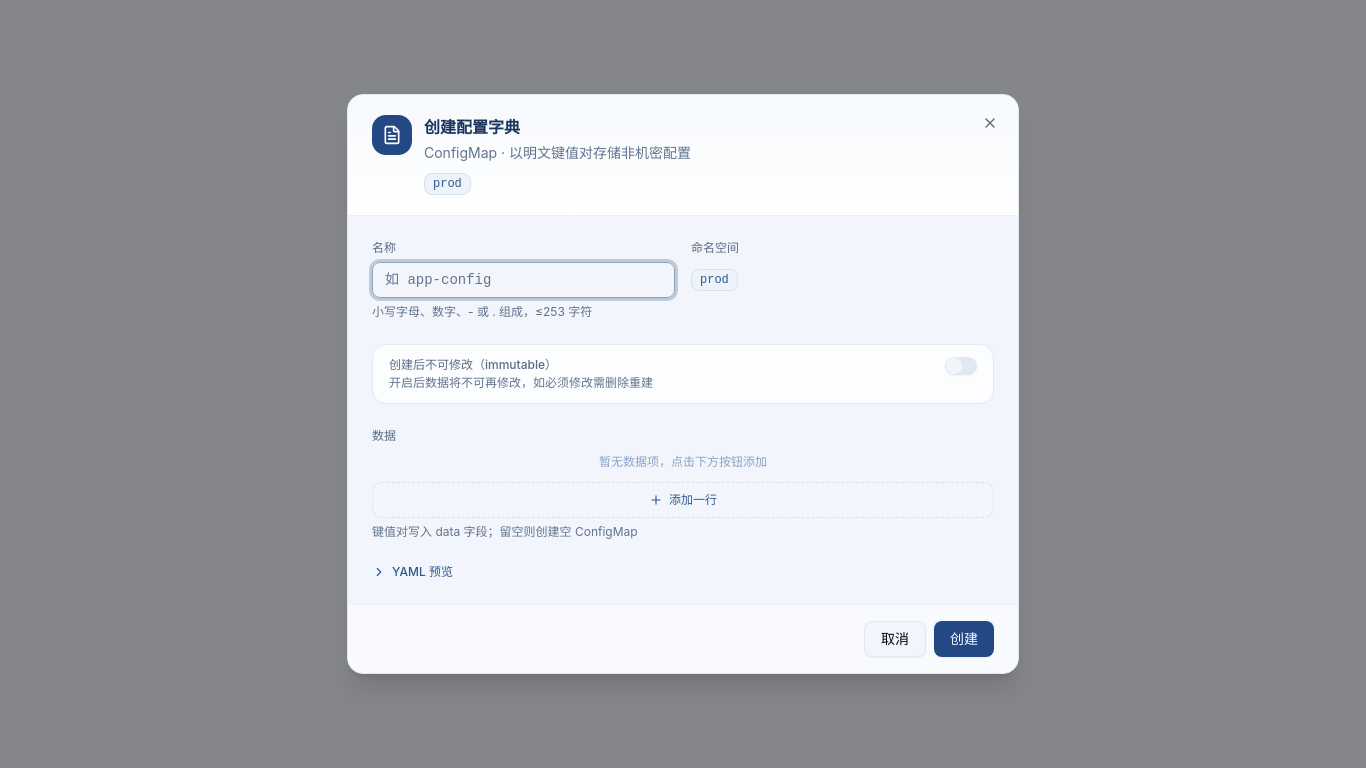
Scenario: CmCreateDialog › shows 同名配置字典已存在 on a 409 from the real create
Type "app-config" into the field named "名称".
click(524, 280); type("app-config")  # box x1=372 y1=262 x2=675 y2=298
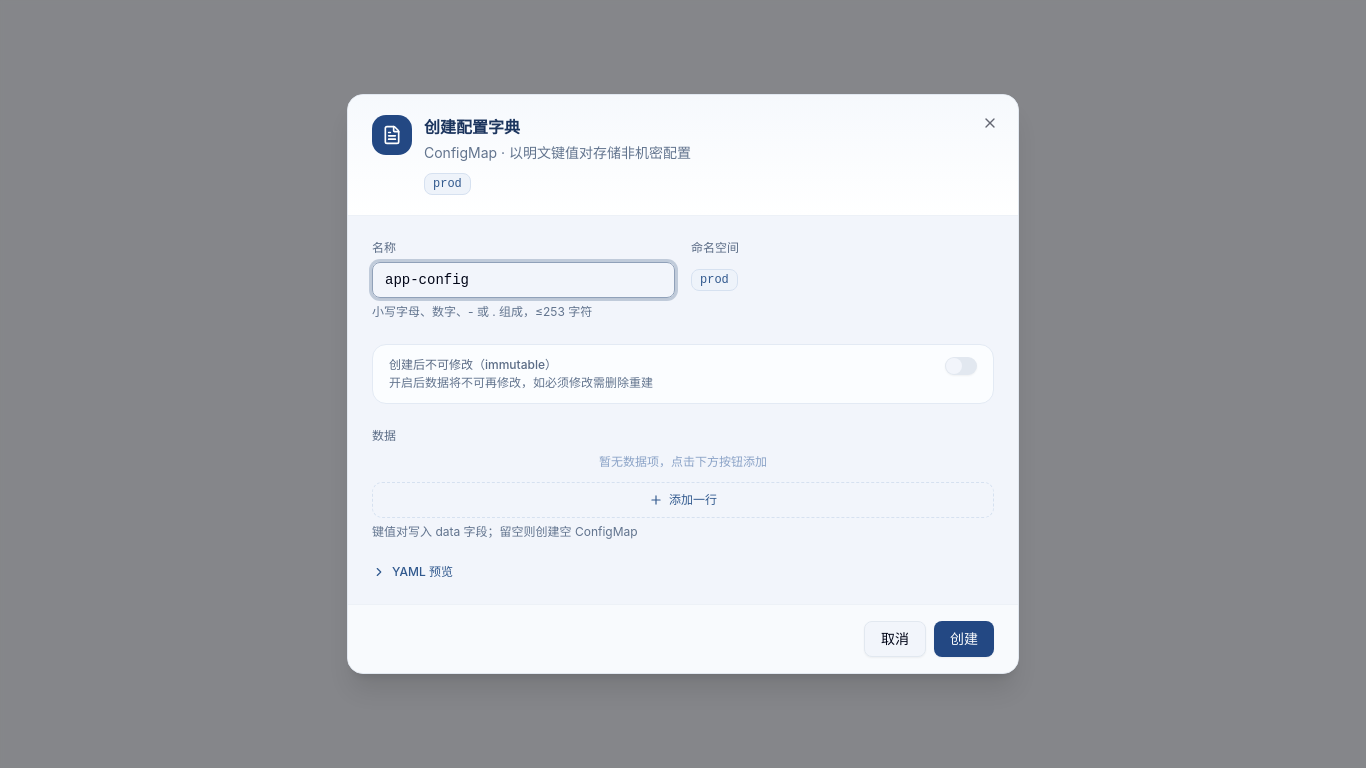
Click the button "创建".
click(964, 639)  # box x1=934 y1=621 x2=994 y2=657
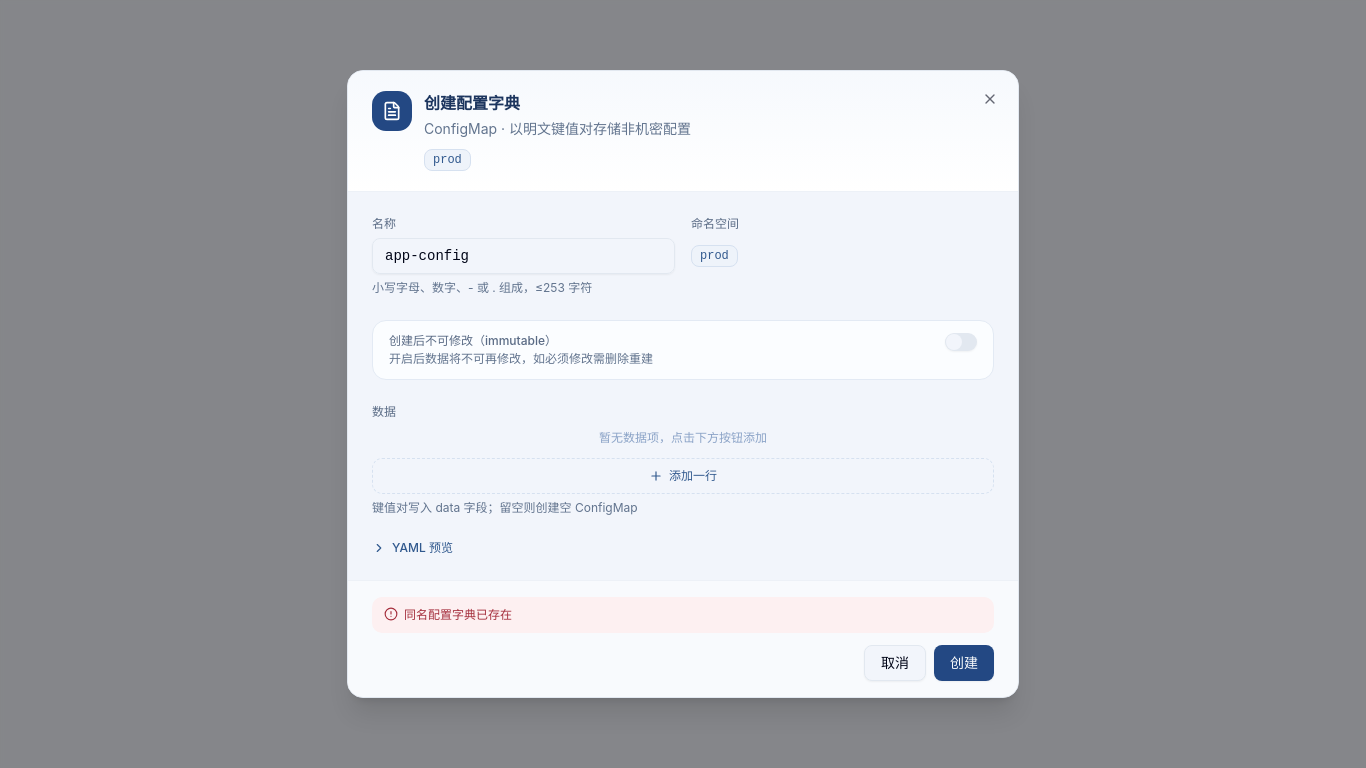
Result: the text "同名配置字典已存在" is shown at x1=404 y1=605 x2=512 y2=625
